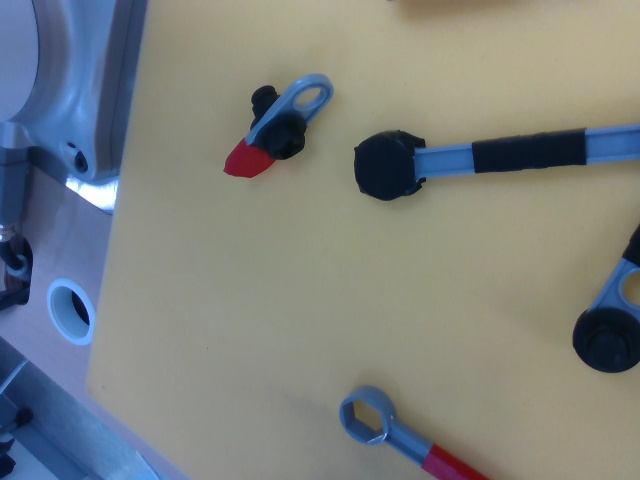part_1_good: (222, 71, 337, 182)
